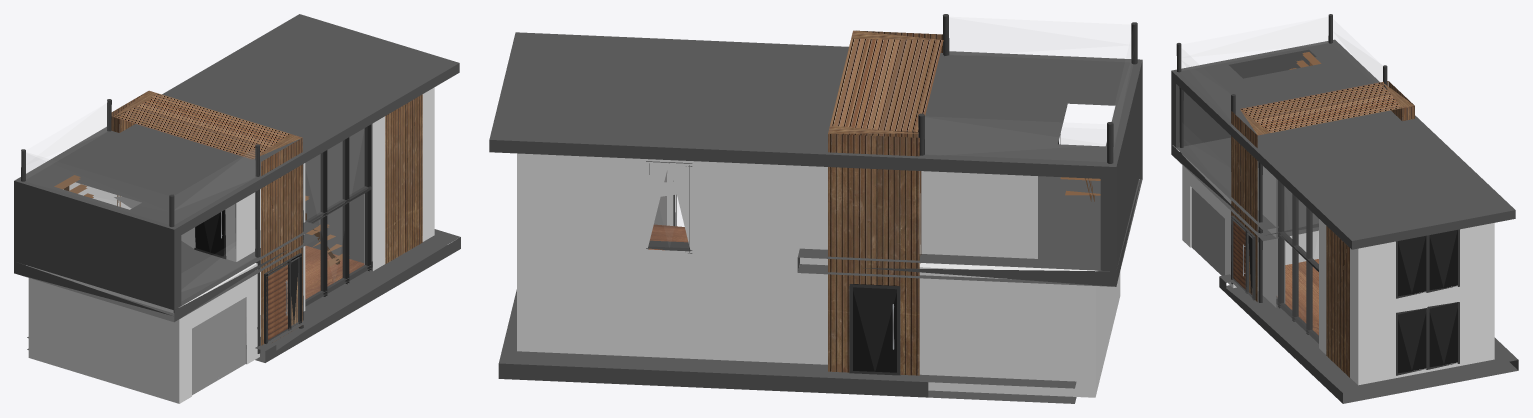
The model's file is house-real-2s2.glb.
3 renders of one model, left to right at view 1: azimuth 30°, elevation 25°; view 2: azimuth 150°, elevation 25°; view 3: azimuth 270°, elevation 25°, orthographic. The views are drawn at different scales.
Parts seen in each view (by area): view 1: Cladding, Box012, Box009, Box011, Box091, Box013, Parter001, Box036, Parter, Box093, Box006, Box007 (+6 smaller); view 2: Cladding, Parter001, Parter, Box009, Box012, Box011, Box101, Box014; view 3: Cladding, Parter, Parter001, Box009, Box011, Box091, Box012, Box036, Box103, Box105, Box107, Box109 (+7 smaller).
Boxes of the visible parts, left/top/right/bottom form: Cladding: left=14, top=14, right=459, bottom=322; Box012: left=28, top=263, right=259, bottom=403; Box009: left=111, top=90, right=302, bottom=345; Box011: left=27, top=229, right=460, bottom=362; Box091: left=385, top=94, right=422, bottom=263; Box013: left=305, top=123, right=372, bottom=262; Parter001: left=69, top=87, right=434, bottom=261; Box036: left=192, top=297, right=246, bottom=395; Parter: left=246, top=158, right=434, bottom=344; Box093: left=305, top=245, right=364, bottom=299; Box006: left=320, top=150, right=327, bottom=296; Box007: left=342, top=137, right=349, bottom=284; Cladding: left=489, top=32, right=1142, bottom=286; Parter001: left=517, top=153, right=1037, bottom=265; Parter: left=517, top=170, right=827, bottom=364; Box009: left=828, top=30, right=943, bottom=375; Box012: left=919, top=263, right=1120, bottom=397; Box011: left=498, top=289, right=1076, bottom=403; Box101: left=853, top=284, right=896, bottom=372; Box014: left=648, top=224, right=688, bottom=250; Cladding: left=1171, top=39, right=1515, bottom=249; Parter: left=1257, top=236, right=1494, bottom=385; Parter001: left=1257, top=161, right=1494, bottom=317; Box009: left=1231, top=81, right=1414, bottom=301; Box011: left=1219, top=274, right=1518, bottom=403; Box091: left=1326, top=226, right=1349, bottom=377; Box012: left=1182, top=154, right=1318, bottom=287; Box036: left=1191, top=187, right=1224, bottom=275; Box103: left=1429, top=302, right=1457, bottom=367; Box105: left=1398, top=308, right=1426, bottom=373; Box107: left=1398, top=236, right=1426, bottom=296; Box109: left=1429, top=230, right=1457, bottom=290.
Bounding box in the file's own units: 15949 × 7097 × 11620.
9 materials, 3 textured.
